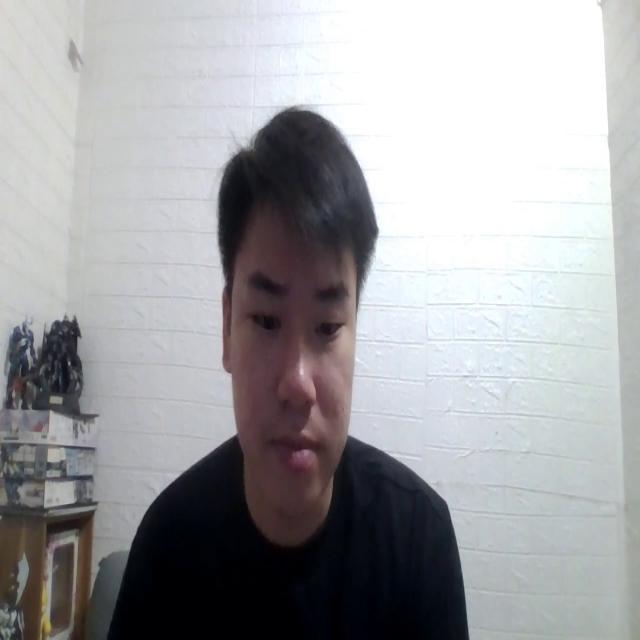student: (116, 99, 470, 634)
